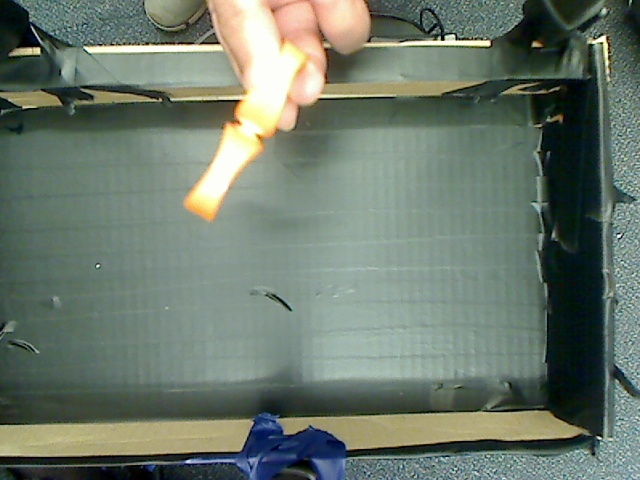scissors: (168, 32, 341, 230)
